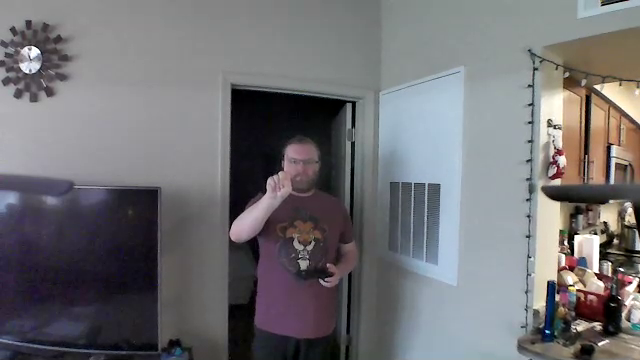up: (261, 152, 297, 202)
